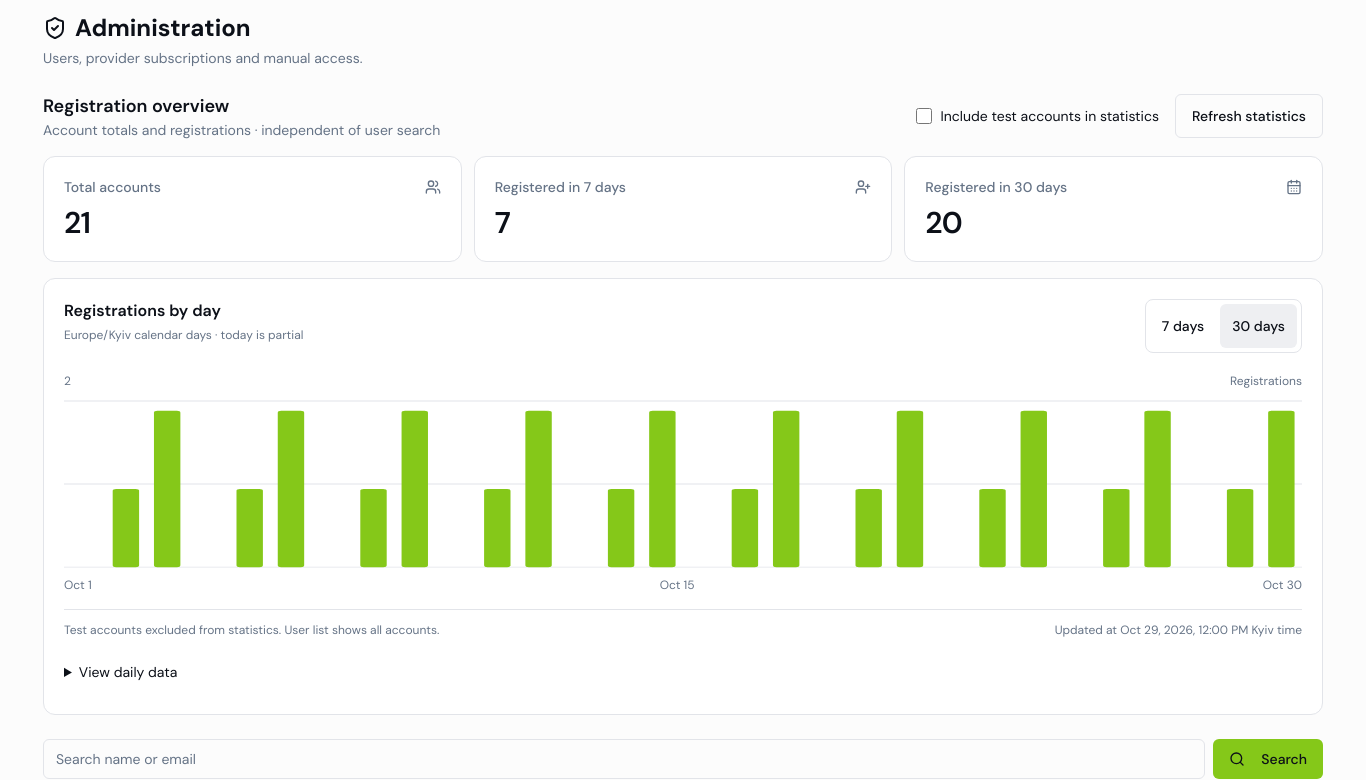
Test: Registration overview and test accounts › keeps fixed cards, switches chart period and scopes the test checkbox to metrics
This screenshot has width=1366, height=780.
Expected: the heading "Registration overview" is shown, [43, 94, 229, 118]
Expected: the picture named "Registrations by day" is shown, [64, 397, 1302, 573]
Click the button "7 days". click: (1183, 326)
box: [1150, 304, 1216, 348]
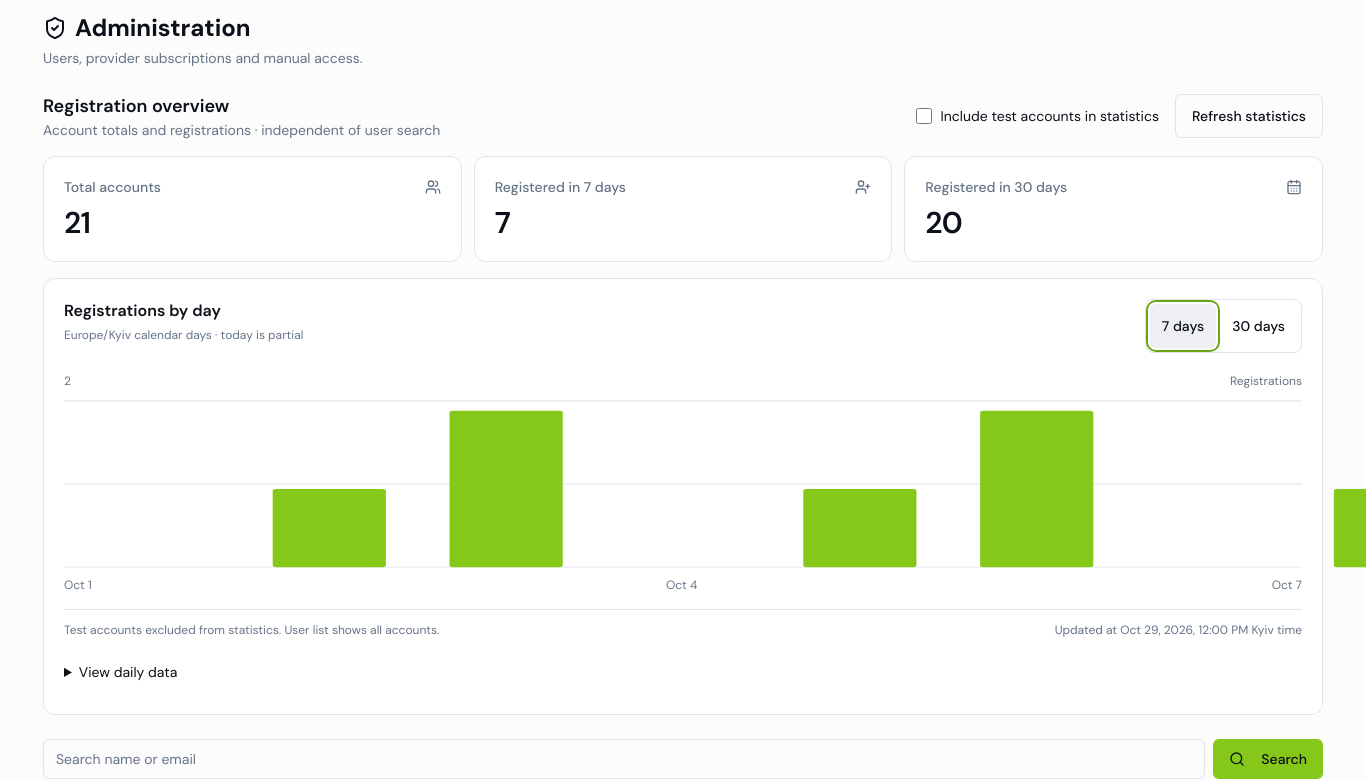
Click the checkbox labelled "Include test accounts in statistics". click: (924, 116)
box: [916, 108, 932, 124]
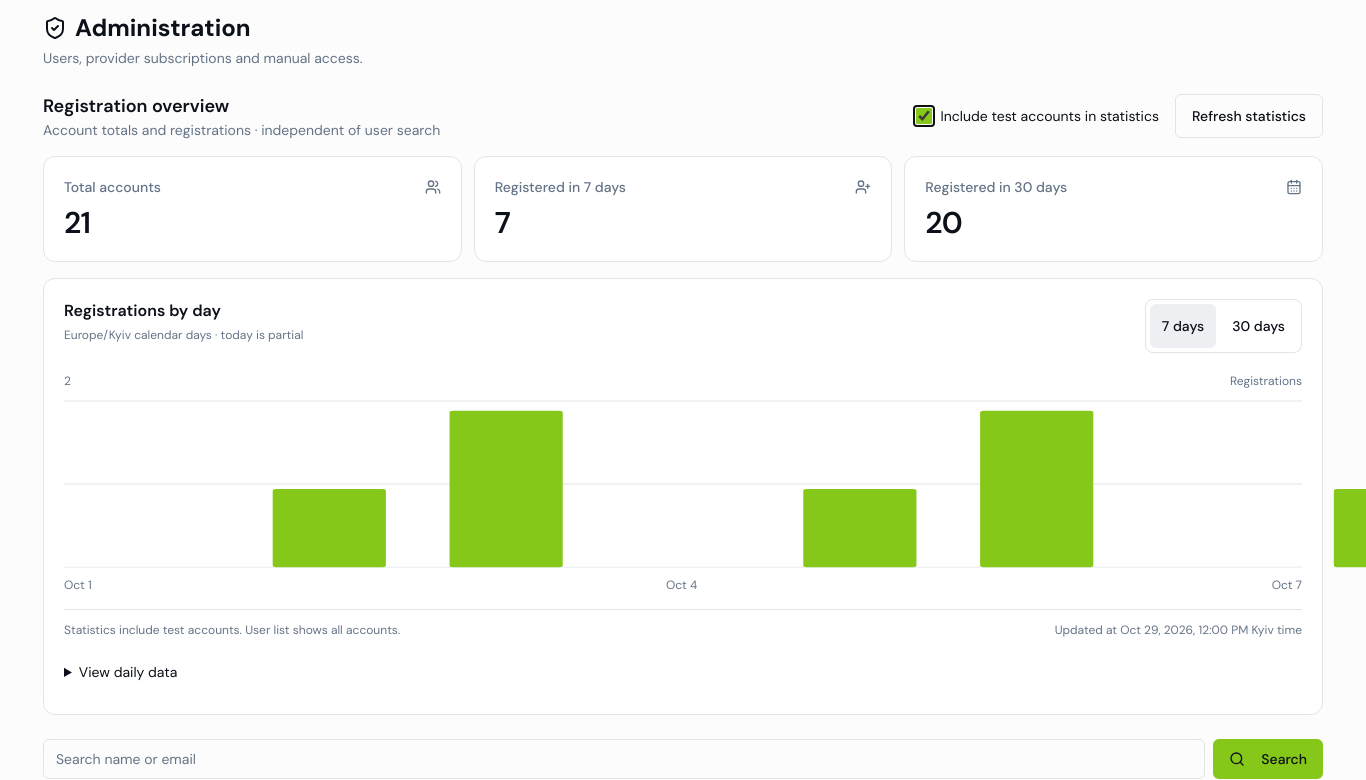
Now the text "Statistics include test accounts. User list shows all accounts." is shown, box [64, 622, 400, 638]
Click the heading "View daily data". click: (128, 672)
box: [79, 663, 177, 681]
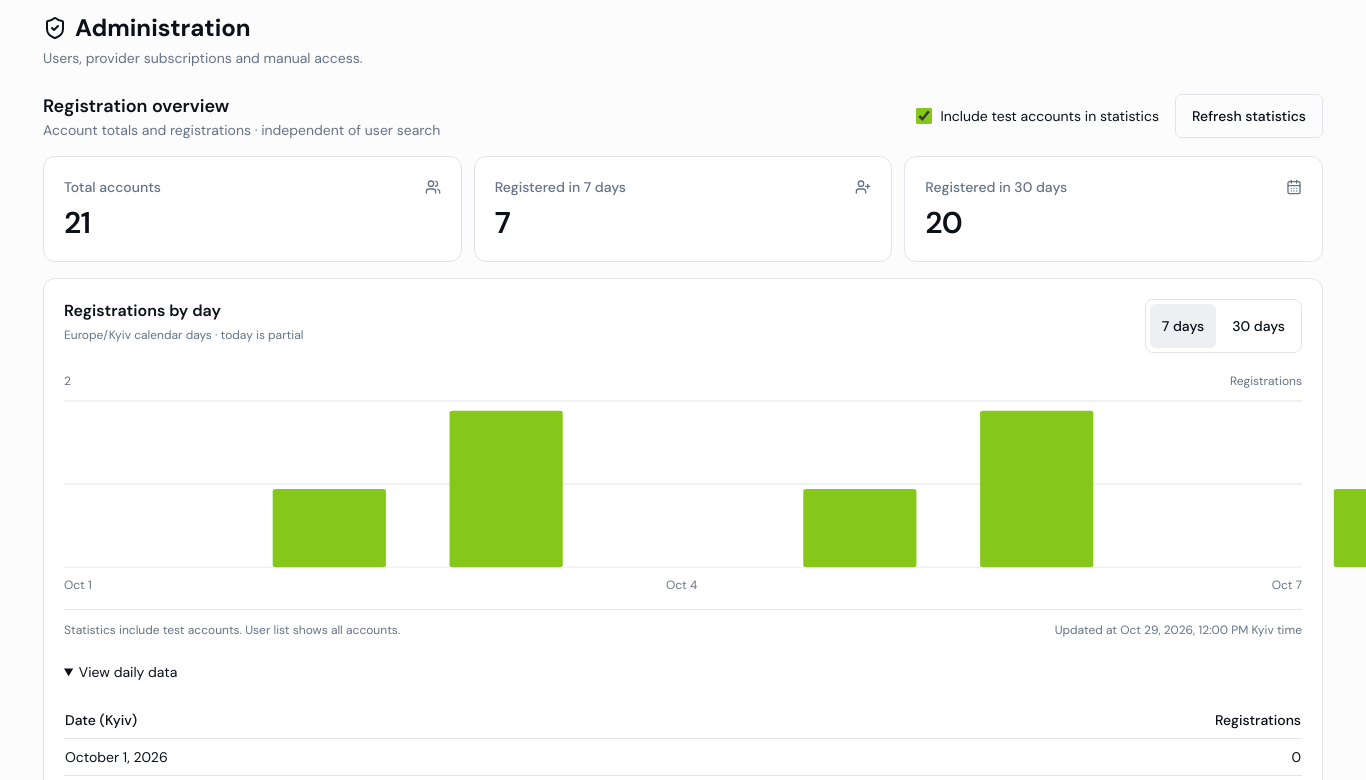
Expected: the text "Europe/Kyiv calendar days · today is partial" is shown, [64, 327, 303, 343]
Now the table named "Registrations by day" shows "0", box [1291, 748, 1301, 766]
